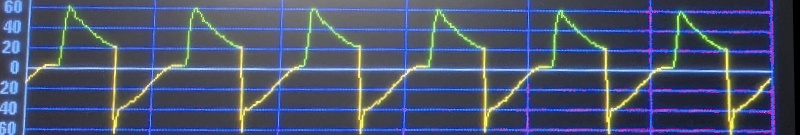normal_flow: (52, 0, 754, 135)
